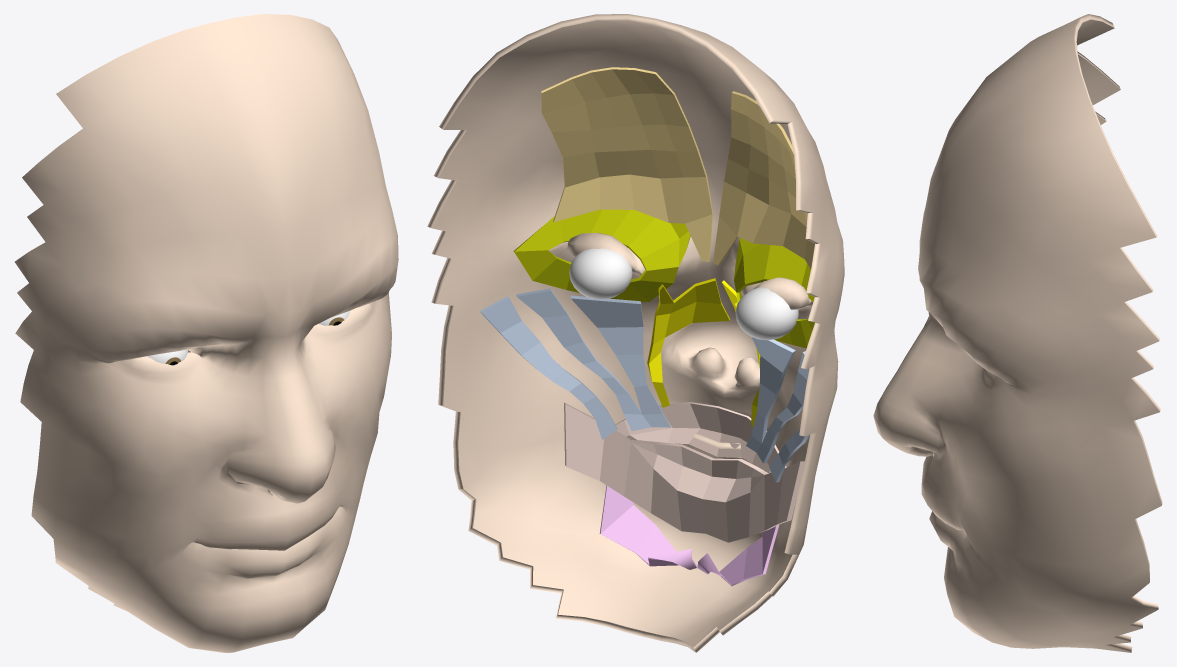
File: blendface.fbx
3 views of the same model, side by side, from view 1: azimuth 30°, elevation 25°; view 2: azimuth 150°, elevation 25°; view 3: azimuth 270°, elevation 25° (orthographic). The views are drawn at different scales.
Parts seen in each view (by area): view 1: core, eyes; view 2: core, eyes; view 3: core.
Part boxes in pixels (bbox=[...]): core: bbox=[14, 14, 398, 652]; eyes: bbox=[147, 311, 349, 365]; core: bbox=[427, 14, 844, 652]; eyes: bbox=[569, 248, 798, 340]; core: bbox=[873, 14, 1162, 652].
Bounding box in the file's own units: 14.55 × 23.41 × 10.27.
